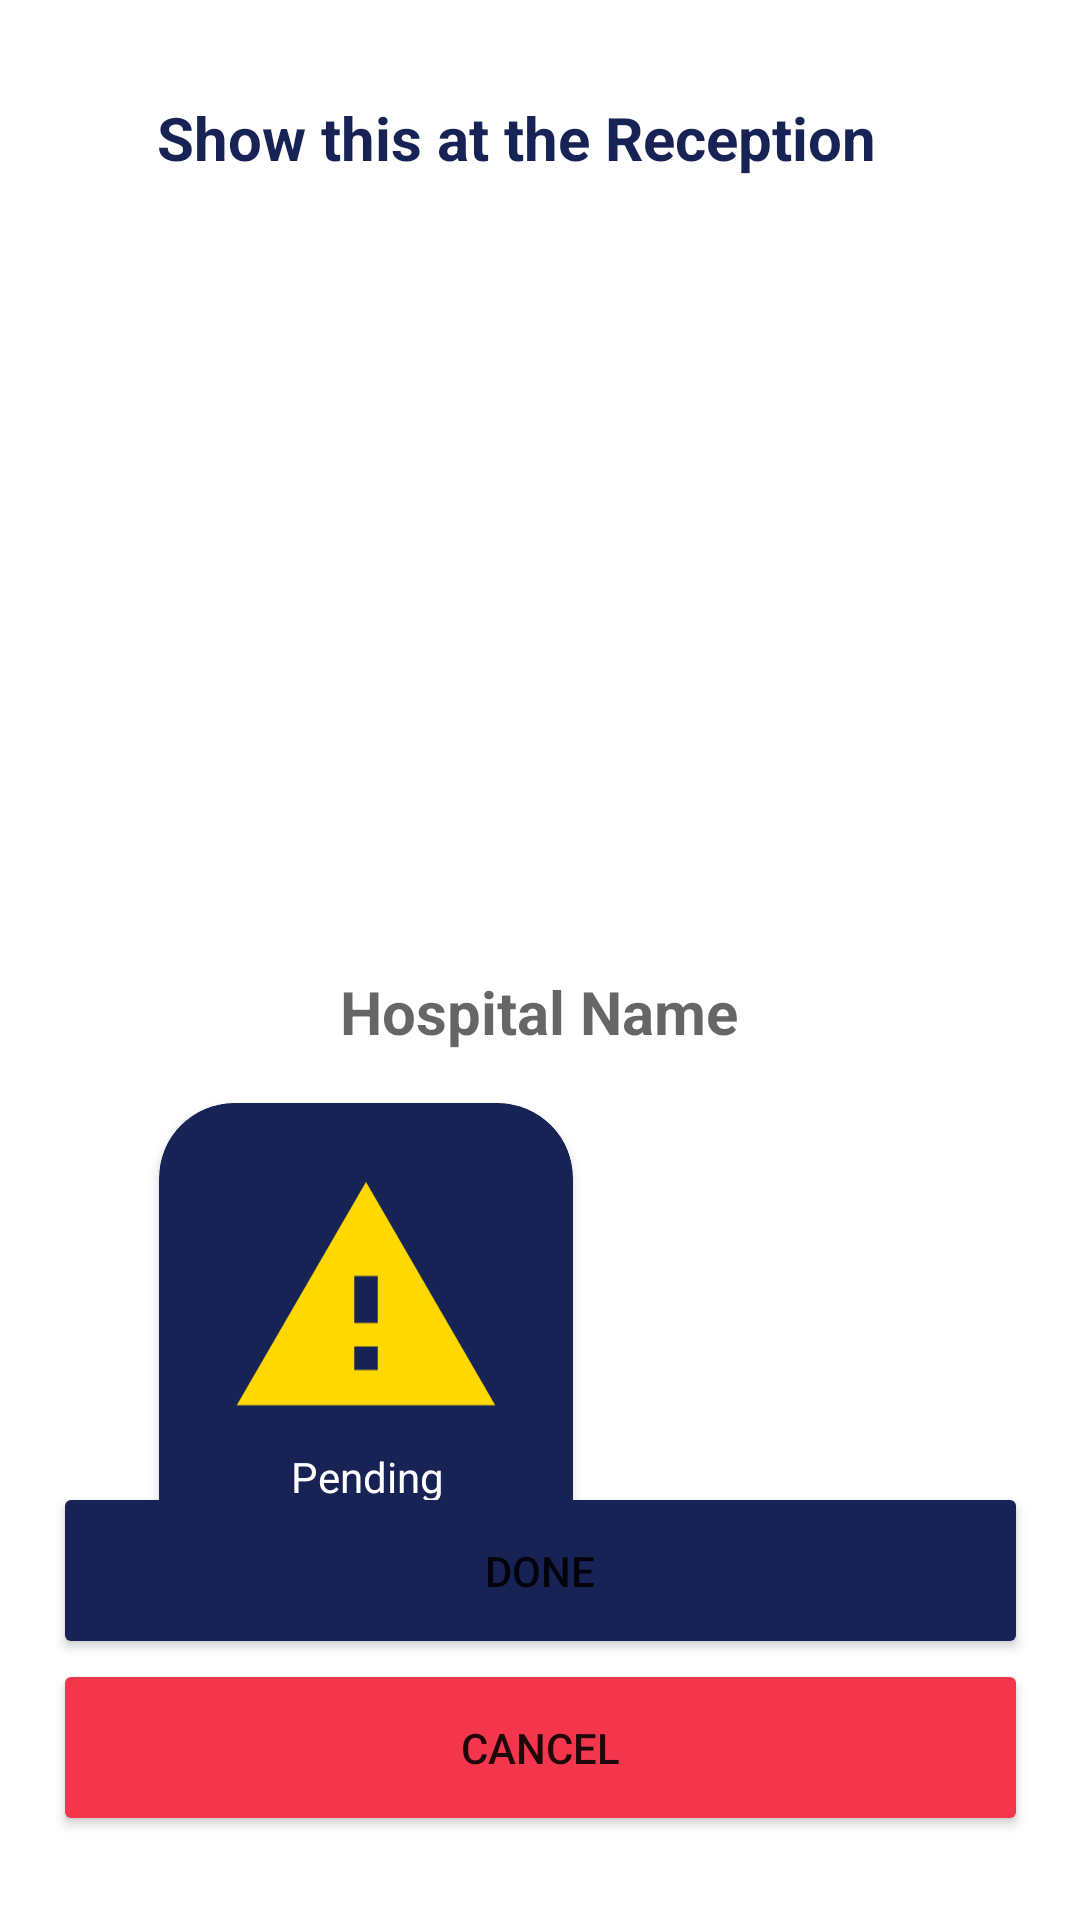

Icon click points for this 1080px×1920px phone screenshot, format [x,y]:
warning: [366,1294]
